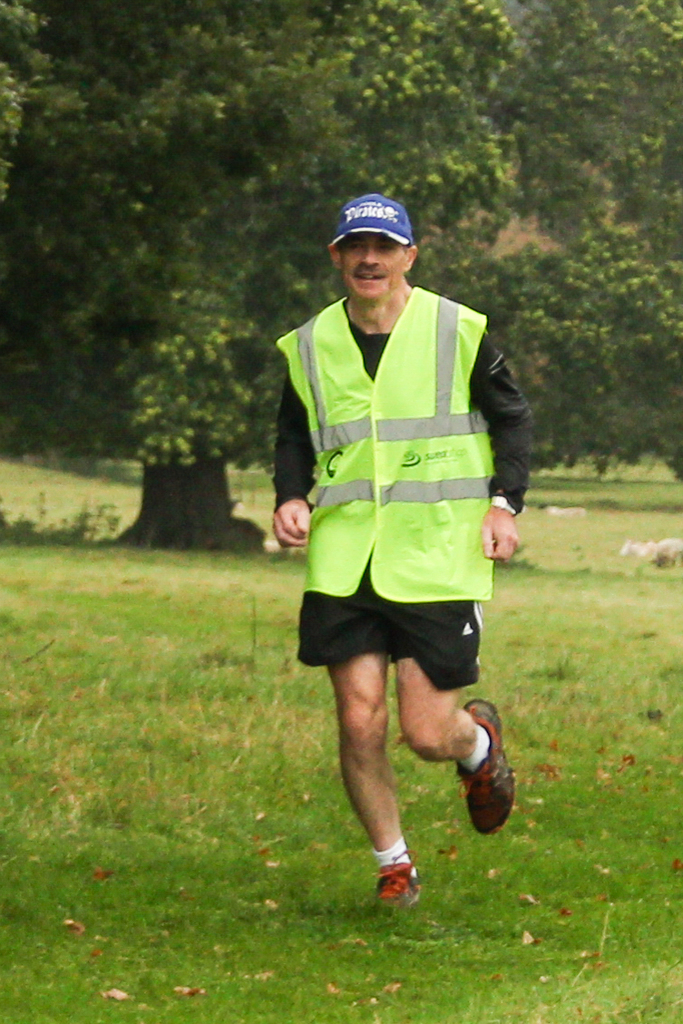Footwear: (458, 695, 512, 836), (380, 854, 419, 914)
